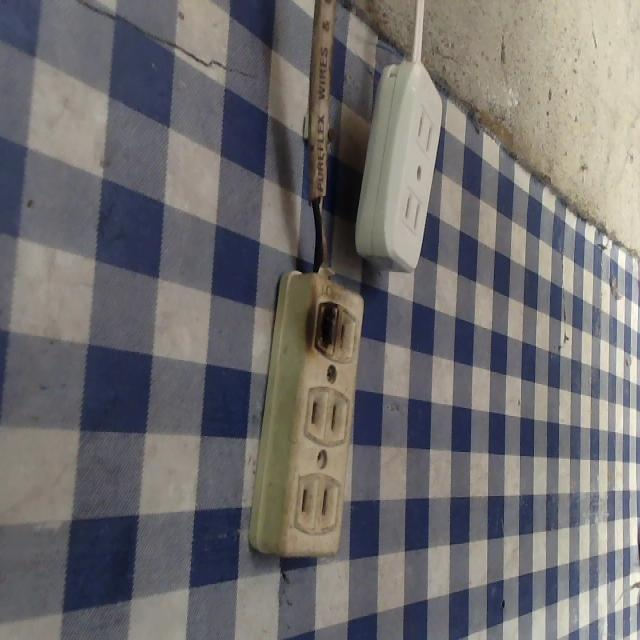-: (310, 295, 345, 360)
